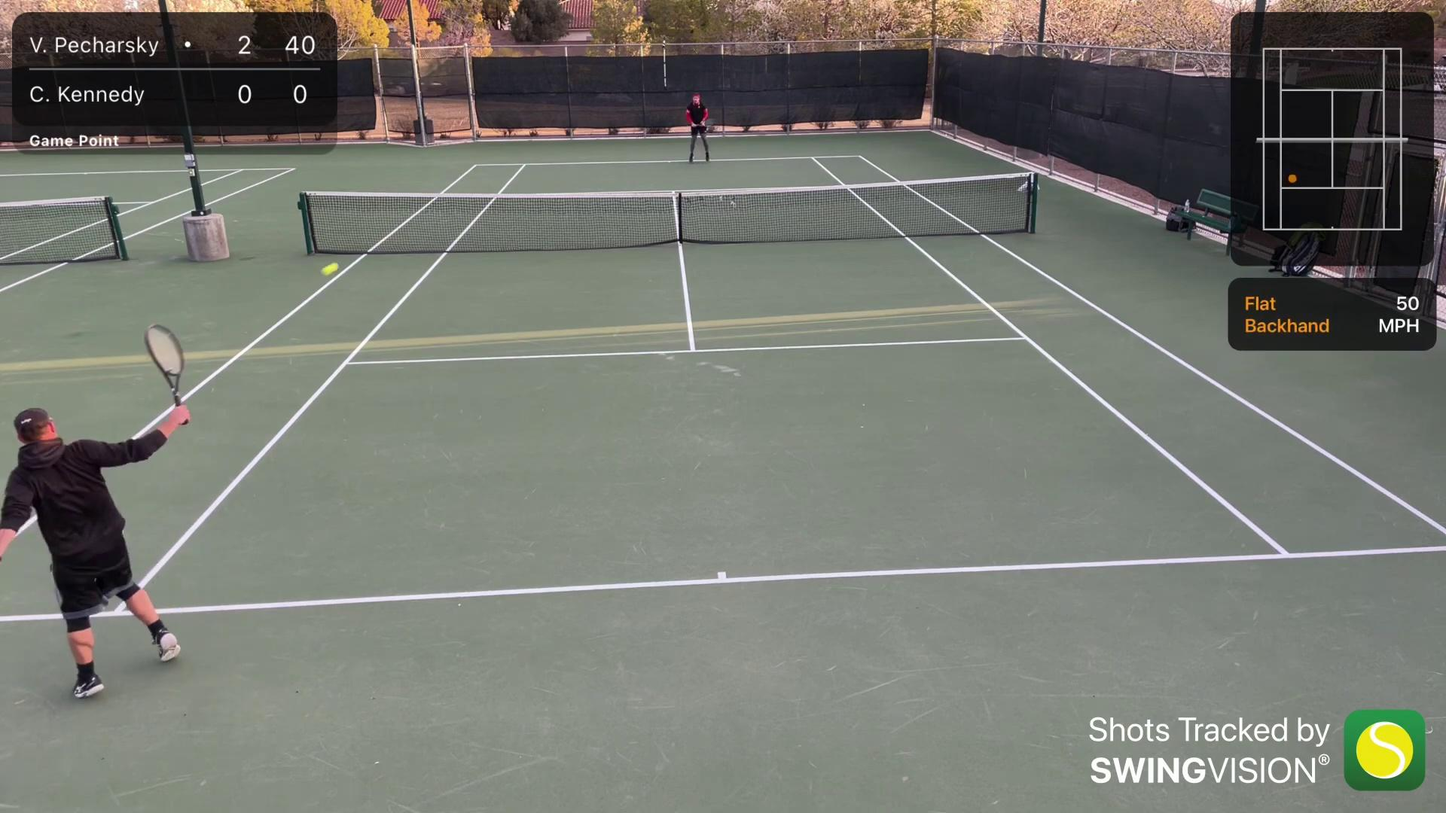ball: (319, 261, 341, 277)
